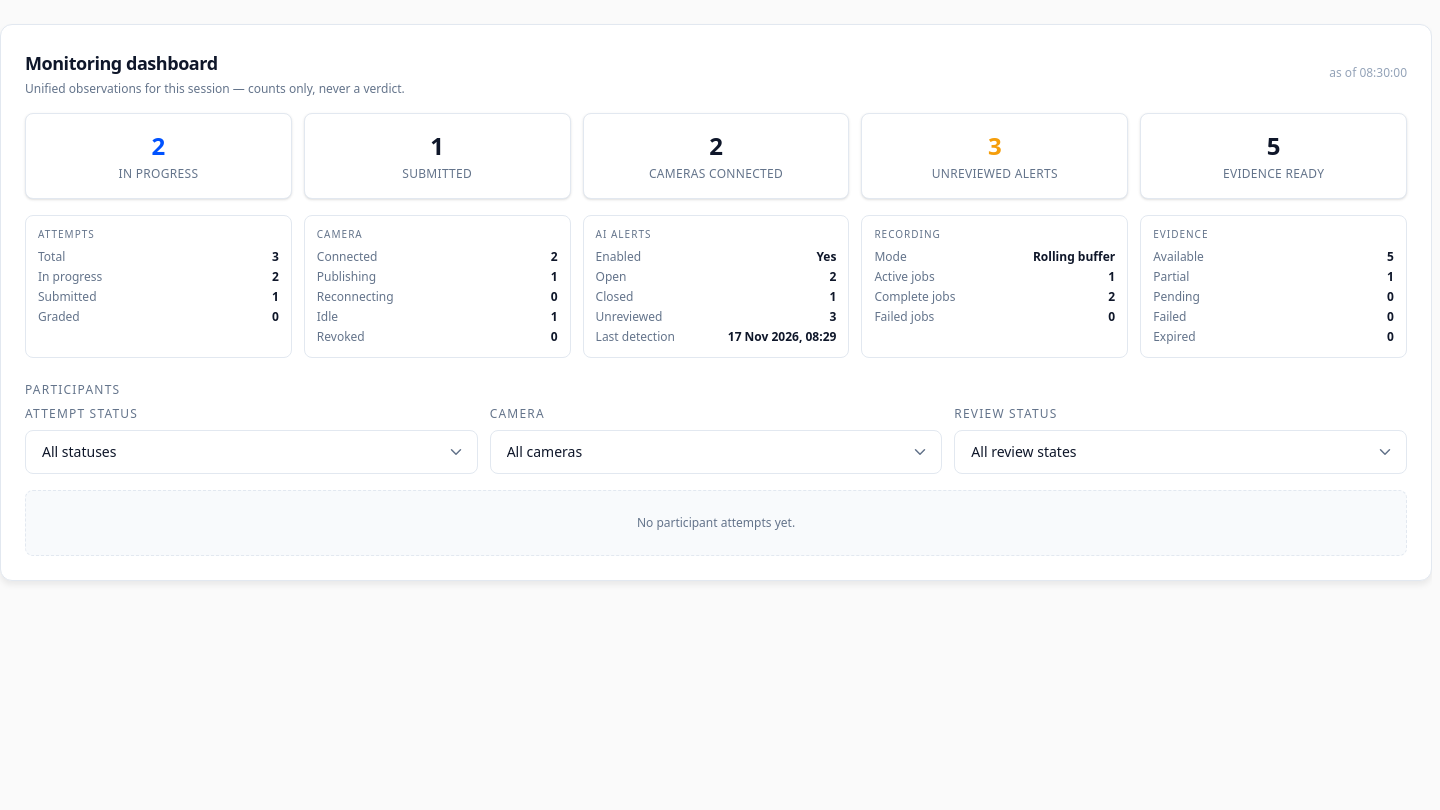
Test: MonitoringDashboard participants › shows the filtered empty state with Clear filters
The image size is (1440, 810).
Later steps or results of the test are not shown.
Expected: the text "No participant attempts yet." is shown, 637,514 -> 795,531
Expected: the button "Clear filters" is not shown
Select "SUBMITTED" in the dropdown labelled "Attempt status" at (251, 452), box 25,430 -> 478,474
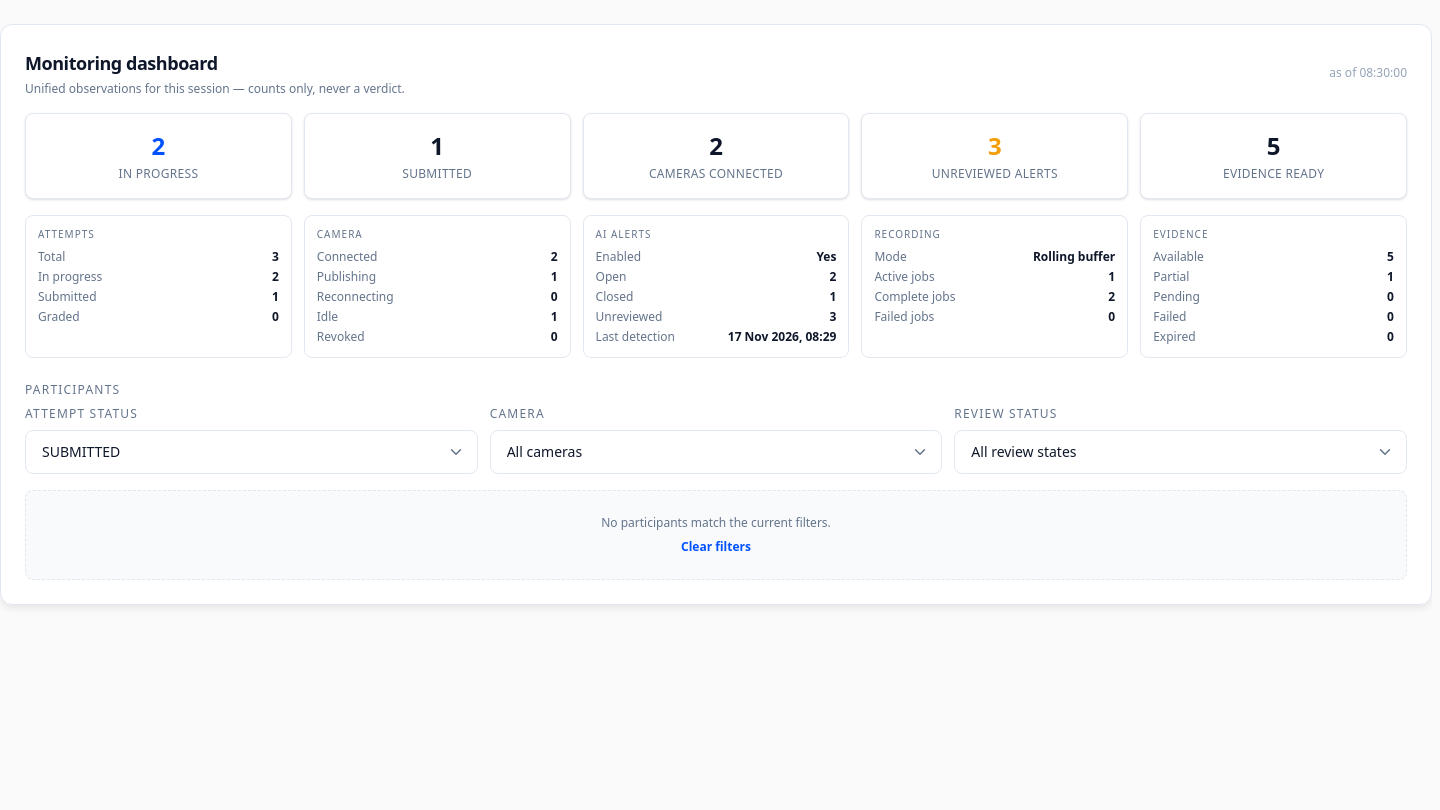
Result: the text "No participants match the current filters." is shown at 601,514 -> 831,531
